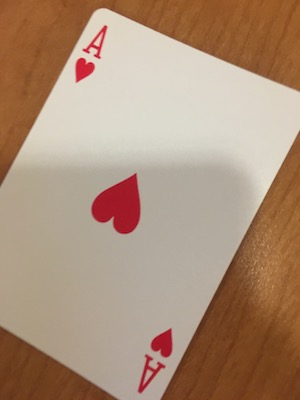AceOfHearts: (7, 6, 296, 400)
